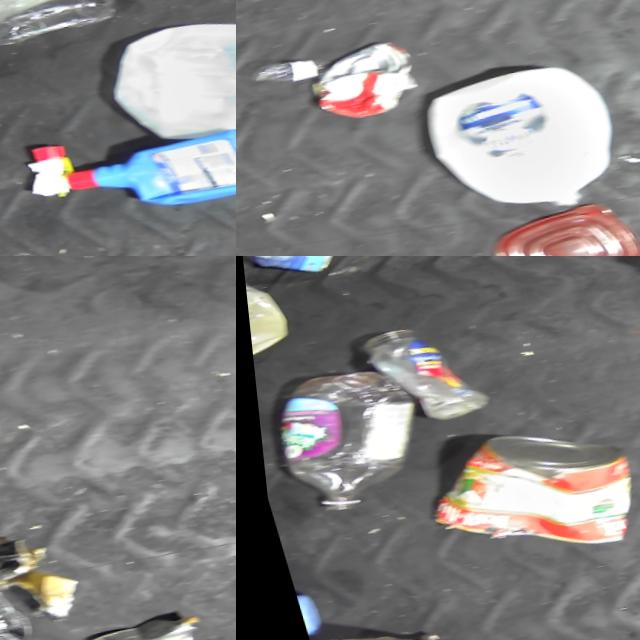can: (400, 406, 640, 573), (290, 31, 421, 126), (68, 600, 197, 640)
milk_jug: (403, 47, 627, 225), (87, 0, 236, 153)
non_white_jug: (58, 118, 236, 220)
plastic_bottle: (256, 357, 438, 523), (352, 313, 490, 433)
